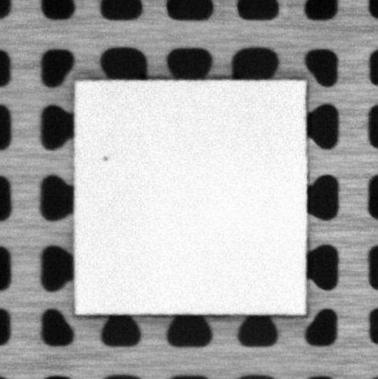DIE_INK: (101, 153, 109, 162)
